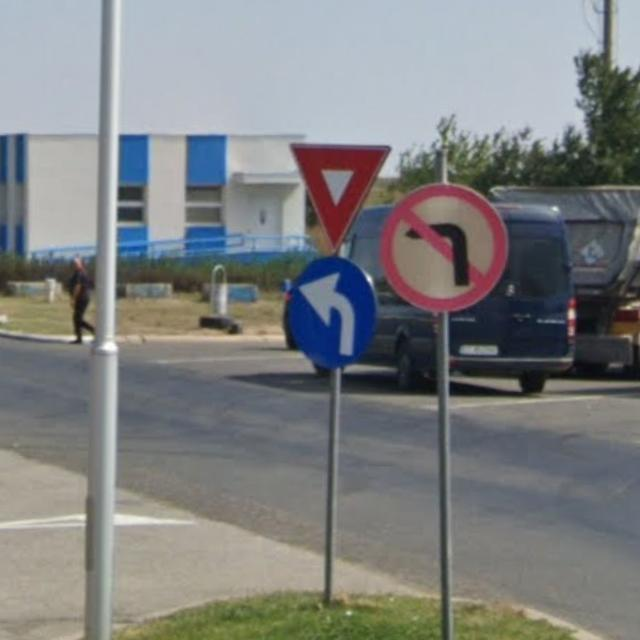prio_give_way: (290, 141, 393, 255)
